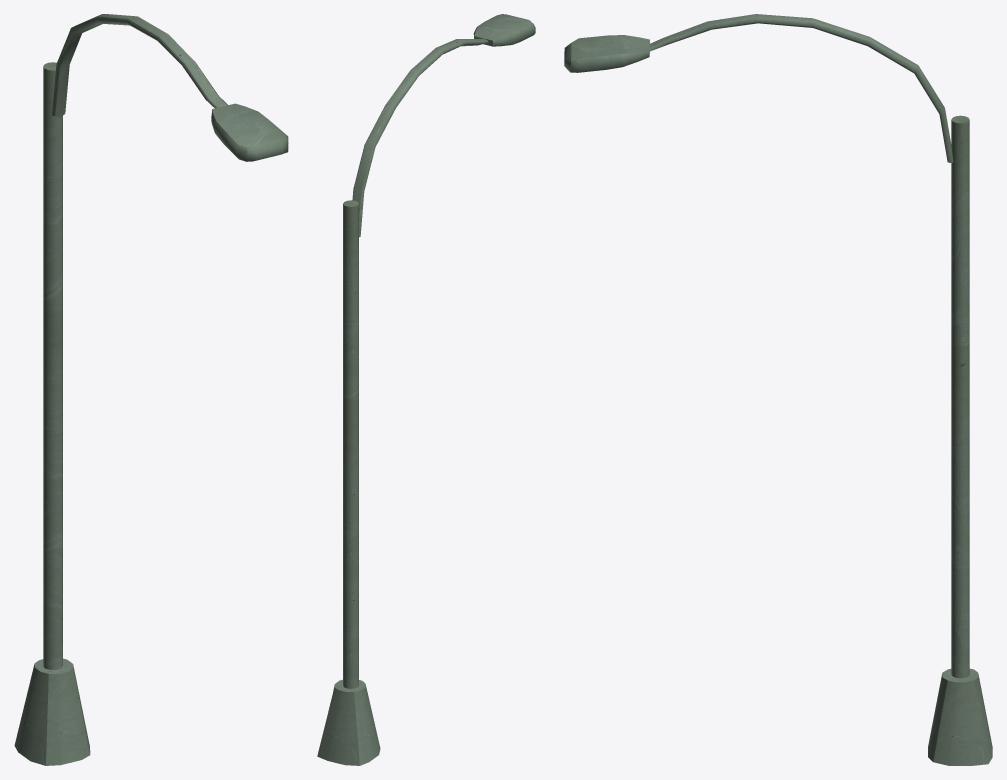
The model's file is road light.FBX.
The picture shows the model from 3 angles, left to right: view 1: azimuth 30°, elevation 25°; view 2: azimuth 150°, elevation 25°; view 3: azimuth 270°, elevation 25°; orthographic projection. The views are drawn at different scales.
Visible parts, largest first — view 1: Box001; view 2: Box001; view 3: Box001.
Part boxes in pixels (bbox=[...]): Box001: bbox=[14, 14, 288, 765]; Box001: bbox=[317, 14, 535, 765]; Box001: bbox=[564, 14, 992, 765].
Bounding box in the file's own units: 2.3 × 29.43 × 15.5.
